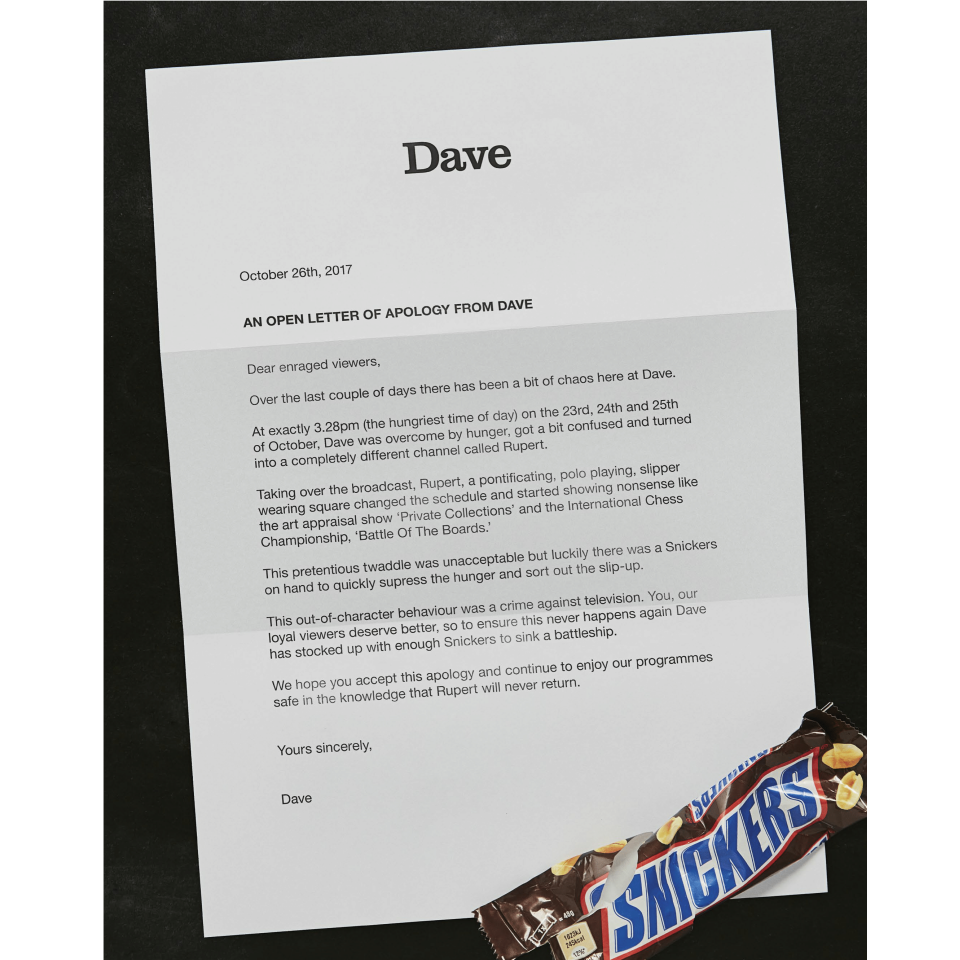snickers: (605, 759, 817, 953), (605, 759, 809, 953), (691, 741, 774, 813)
